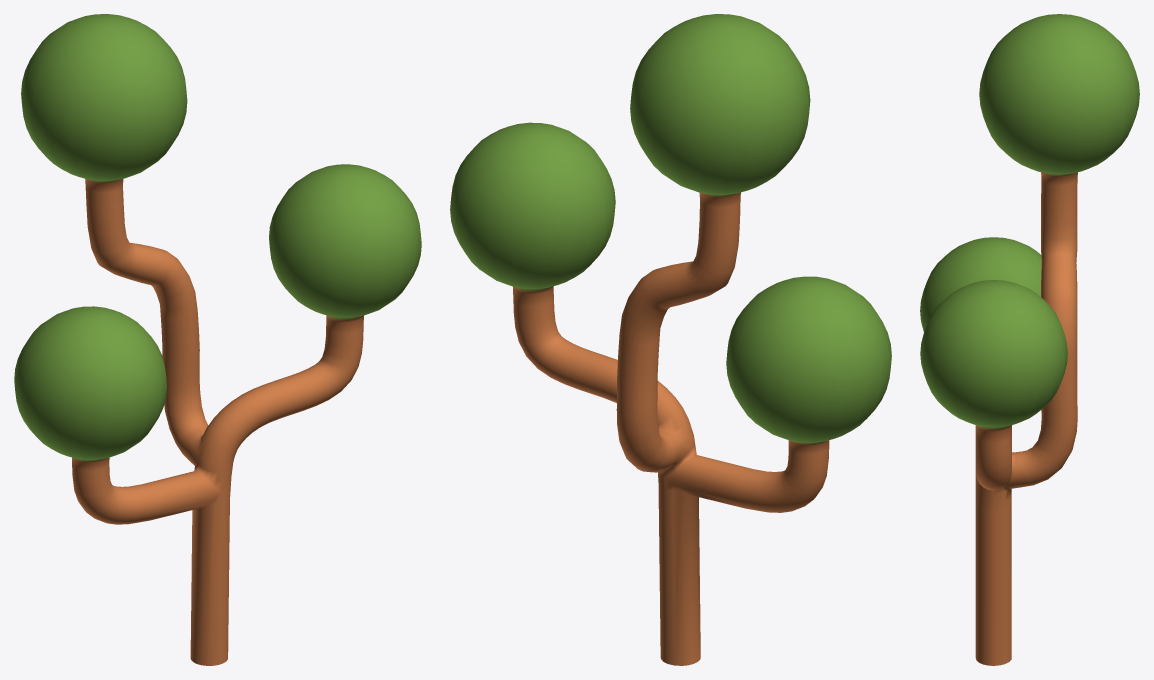
Rendered from treelight.obj.
The picture shows the model from 3 angles, left to right: view 1: azimuth 30°, elevation 25°; view 2: azimuth 150°, elevation 25°; view 3: azimuth 270°, elevation 25°; orthographic projection. The views are drawn at different scales.
Parts seen in each view (by area): view 1: Tree_2.1_Mesh_0; view 2: Tree_2.1_Mesh_0; view 3: Tree_2.1_Mesh_0.
Part boxes in pixels (x1,y1,x2,y2): Tree_2.1_Mesh_0: (14, 14, 421, 665); Tree_2.1_Mesh_0: (450, 14, 891, 665); Tree_2.1_Mesh_0: (920, 14, 1139, 665).
Bounding box in the file's own units: 0.0583 × 0.0902 × 0.0298.
Materials: 1 (1 with a texture image).
